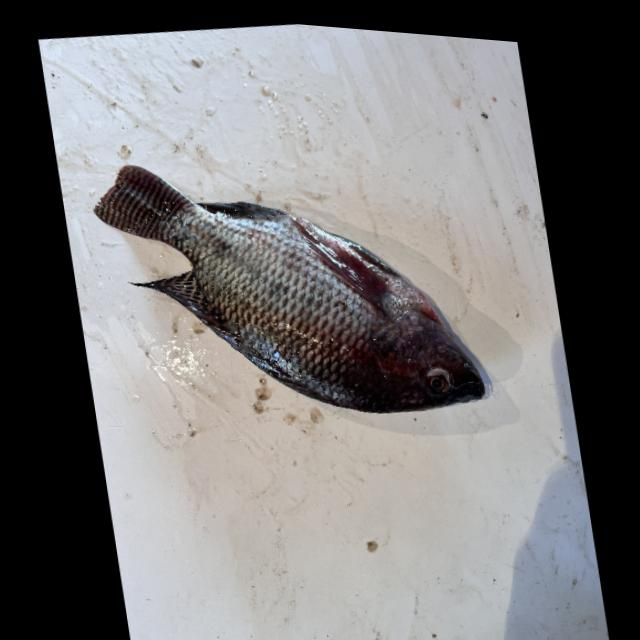Tilapia: (83, 117, 493, 460)
